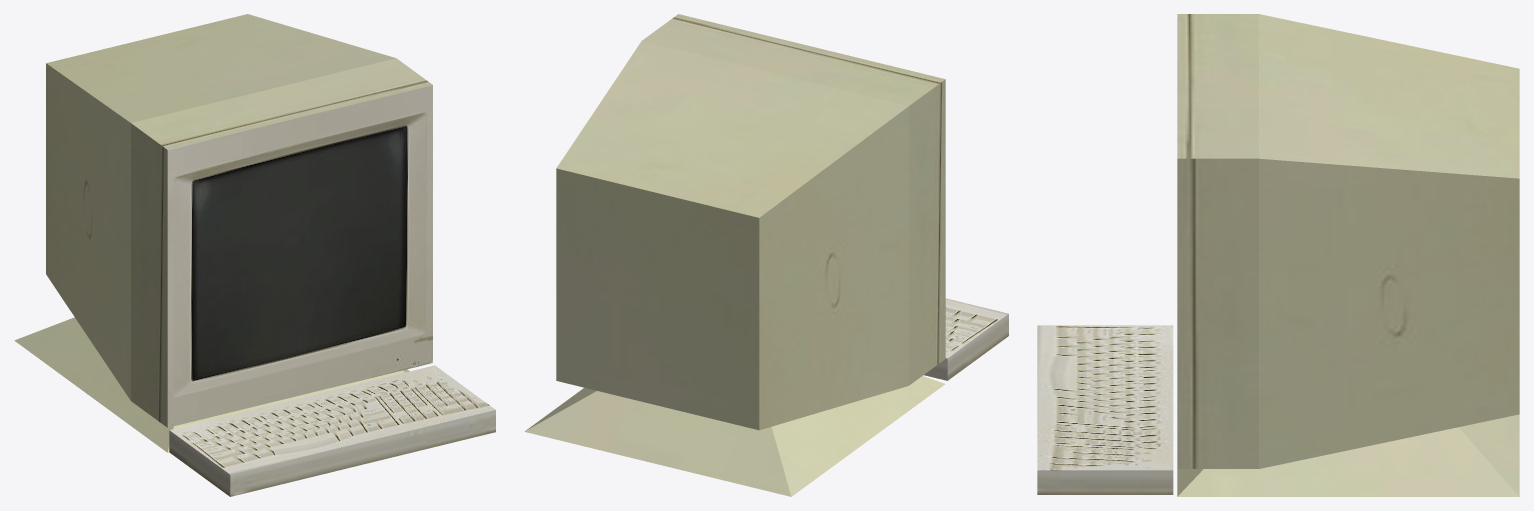
File: komp.glb
3 views of the same model, side by side, from view 1: azimuth 30°, elevation 25°; view 2: azimuth 150°, elevation 25°; view 3: azimuth 270°, elevation 25° (orthographic). The views are drawn at different scales.
Parts seen in each view (by area): view 1: komp; view 2: komp; view 3: komp.
Part boxes in pixels (<box>): komp: <box>14,14,495,496</box>; komp: <box>524,14,1008,496</box>; komp: <box>1037,14,1519,496</box>.
Bounding box in the file's own units: 2 × 2.18 × 2.82.
1 material, 1 textured.
